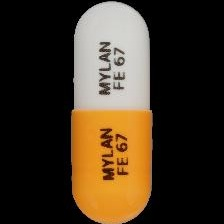0378-8628: (0, 0, 224, 224)
